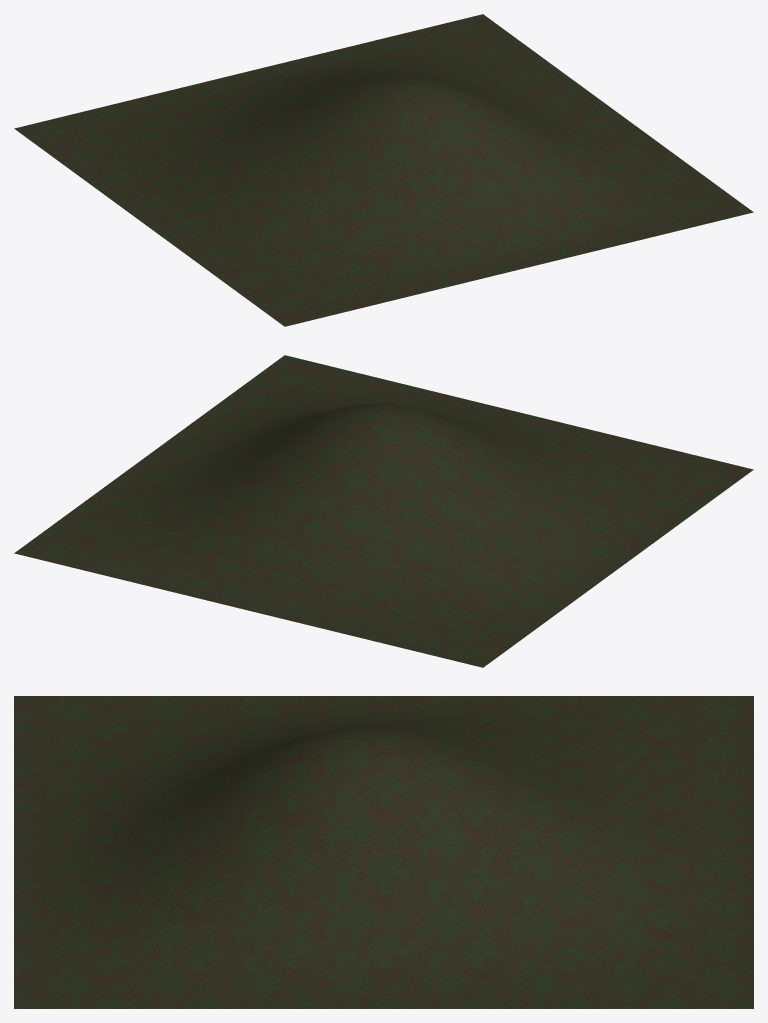
Rendered from moor-ridge-80m.glb.
3 views of the same model, one above another, from view 1: azimuth 30°, elevation 25°; view 2: azimuth 150°, elevation 25°; view 3: azimuth 270°, elevation 25° (orthographic). The views are drawn at different scales.
Visible parts, largest first — view 1: Walkable surface; view 2: Walkable surface; view 3: Walkable surface.
Part boxes in pixels (left/top/right/bottom): Walkable surface: left=14, top=14, right=753, bottom=326; Walkable surface: left=14, top=355, right=753, bottom=667; Walkable surface: left=14, top=696, right=753, bottom=1008.
Bounding box in the file's own units: 80 × 13.62 × 80.
Materials: 1 (1 with a texture image).
